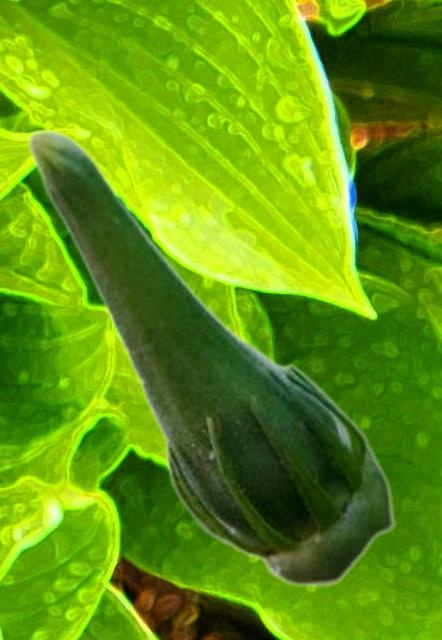okra: (26, 128, 395, 587)
